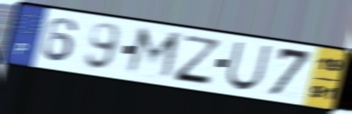6: (42, 17, 79, 64)
7: (266, 46, 315, 98)
9: (84, 22, 123, 72)
M: (122, 25, 185, 84)
U: (224, 40, 274, 92)
Z: (171, 33, 223, 87)
